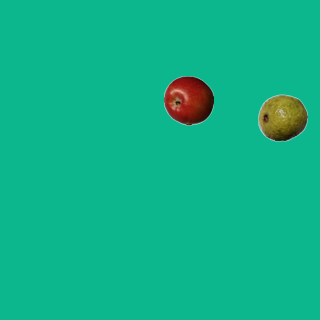Apple Braeburn: (163, 75, 213, 125)
Guava: (257, 92, 307, 142)
